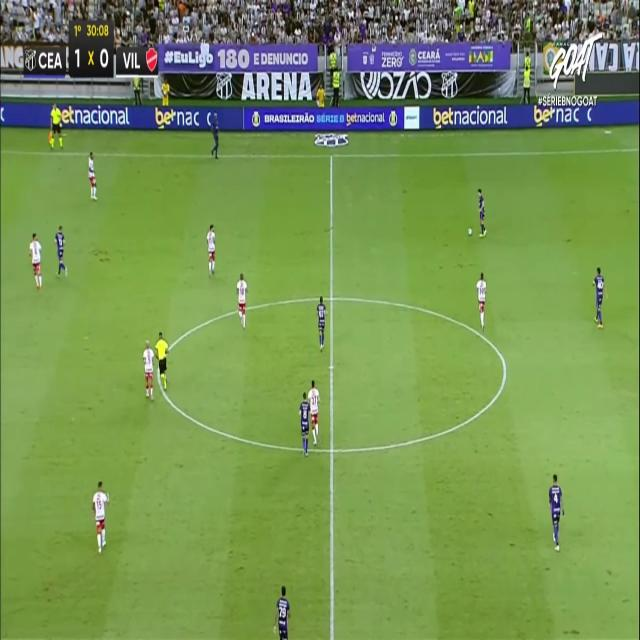ball: (467, 224, 475, 239)
player: (91, 480, 109, 554), (548, 473, 564, 550), (275, 572, 293, 640), (592, 266, 607, 328), (307, 379, 320, 445), (210, 108, 225, 164), (28, 232, 42, 289), (298, 391, 310, 455), (142, 339, 154, 401), (236, 272, 248, 329), (55, 225, 68, 276), (476, 271, 487, 331), (316, 295, 326, 352), (206, 223, 216, 277), (87, 150, 97, 200), (477, 188, 487, 237)
referee: (46, 95, 68, 155), (154, 331, 168, 390)
